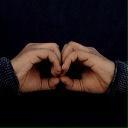hand: (60, 40, 115, 94), (10, 42, 61, 93)
